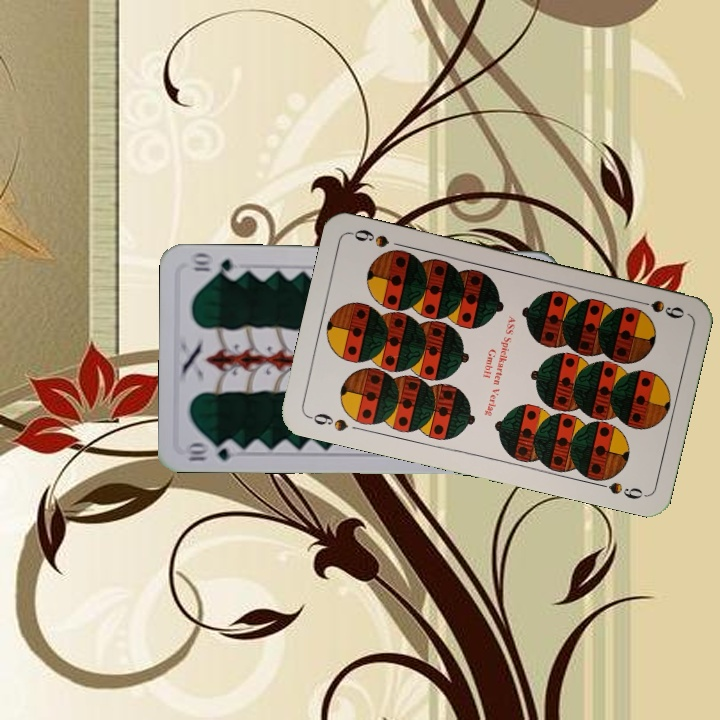G10: (182, 437, 242, 464)
S9: (629, 295, 687, 321), (304, 409, 351, 434)
